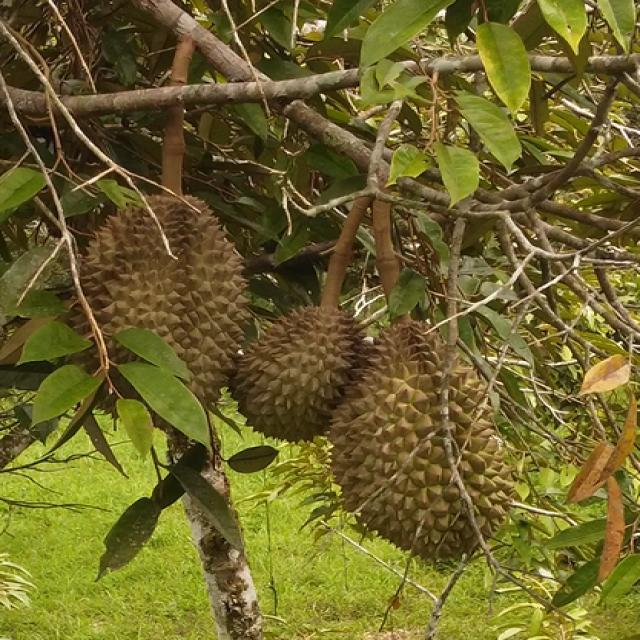mature: (81, 195, 247, 404)
